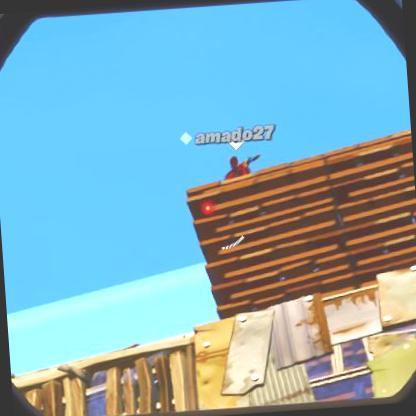person: (228, 152, 244, 176)
